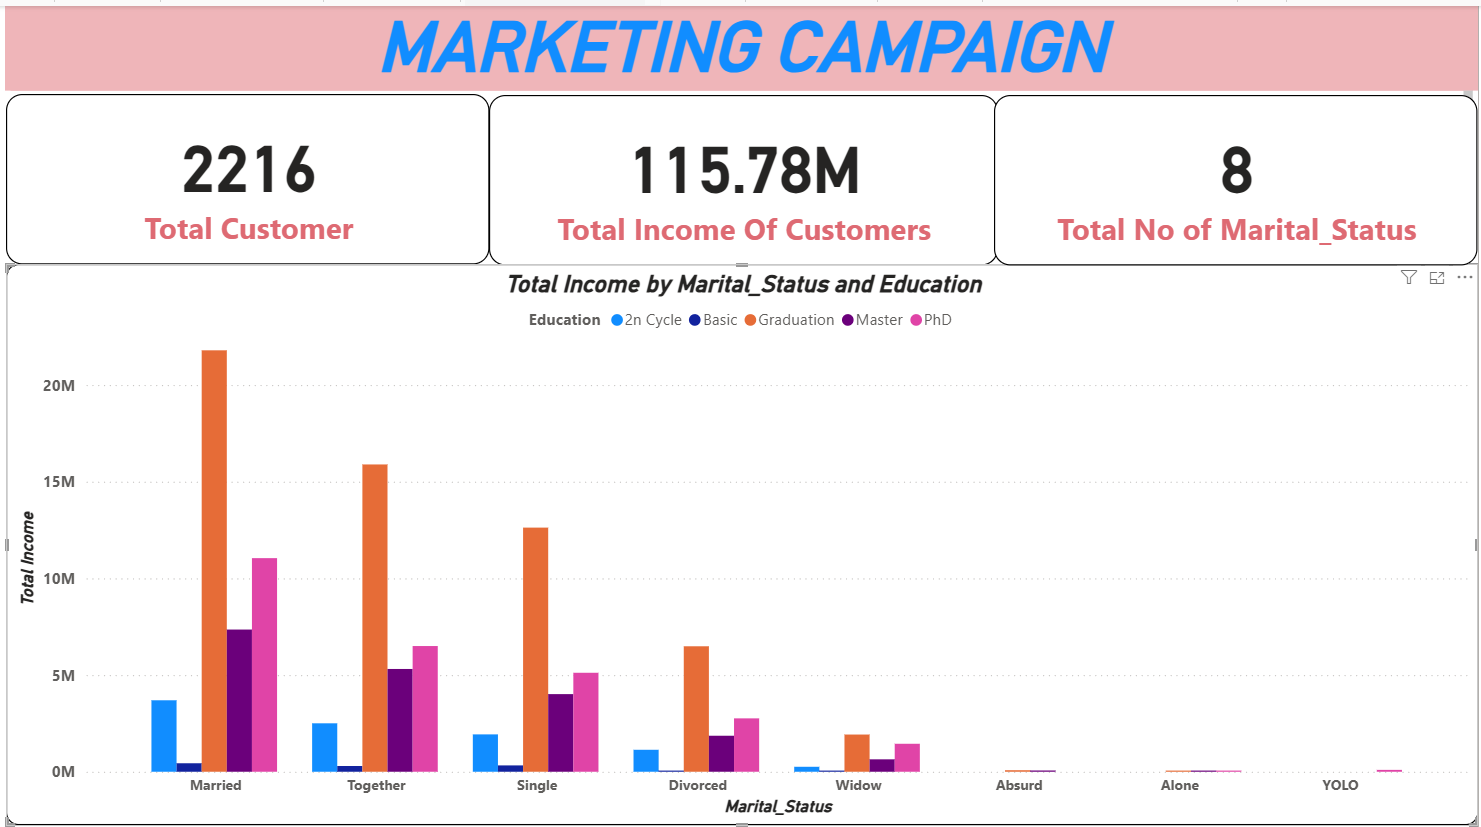

The dashboard page shown, as its layout file describes it:
{"tool":"powerbi","page":{"name":"Page 1","canvas":[1280,720],"ordinal":0},"visuals":[{"type":"textbox","title":"MARKETING  CAMPAIGN","box":[9.5,0,1271.1,93.4],"z":0},{"type":"card","fields":{"Values":["CountNonNull(marketing_campaign_cleaned.ID)"]},"box":[10,75.7,417.1,147.1],"z":1000},{"type":"card","fields":{"Values":["Sum(marketing_campaign_cleaned.Income)"]},"box":[427.1,77.1,438.6,147.1],"z":2000},{"type":"lineClusteredColumnComboChart","fields":{"Category":["marketing_campaign_cleaned.Marital_Status"],"Y":["Sum(marketing_campaign_cleaned.Income)"],"Series":["marketing_campaign_cleaned.Education"]},"box":[10,222.9,1270,484.3],"z":3000},{"type":"card","fields":{"Values":["Count(marketing_campaign_cleaned.Marital_Status)"]},"box":[862.9,77.1,417.1,147.1],"z":4000}]}

Visuals, with their boxes in screenshot pixels (x1, y1, x2, y2), scaled from the page's 1280x720 canvas onto the 1481x827 screenshot:
"MARKETING  CAMPAIGN" textbox: box(11, 0, 1480, 107)
card - CountNonNull(marketing_campaign_cleaned.ID): box(12, 87, 494, 256)
card - Sum(marketing_campaign_cleaned.Income): box(494, 89, 1002, 258)
lineClusteredColumnComboChart - marketing_campaign_cleaned.Marital_Status x Sum(marketing_campaign_cleaned.Income): box(12, 256, 1480, 812)
card - Count(marketing_campaign_cleaned.Marital_Status): box(998, 89, 1480, 258)
